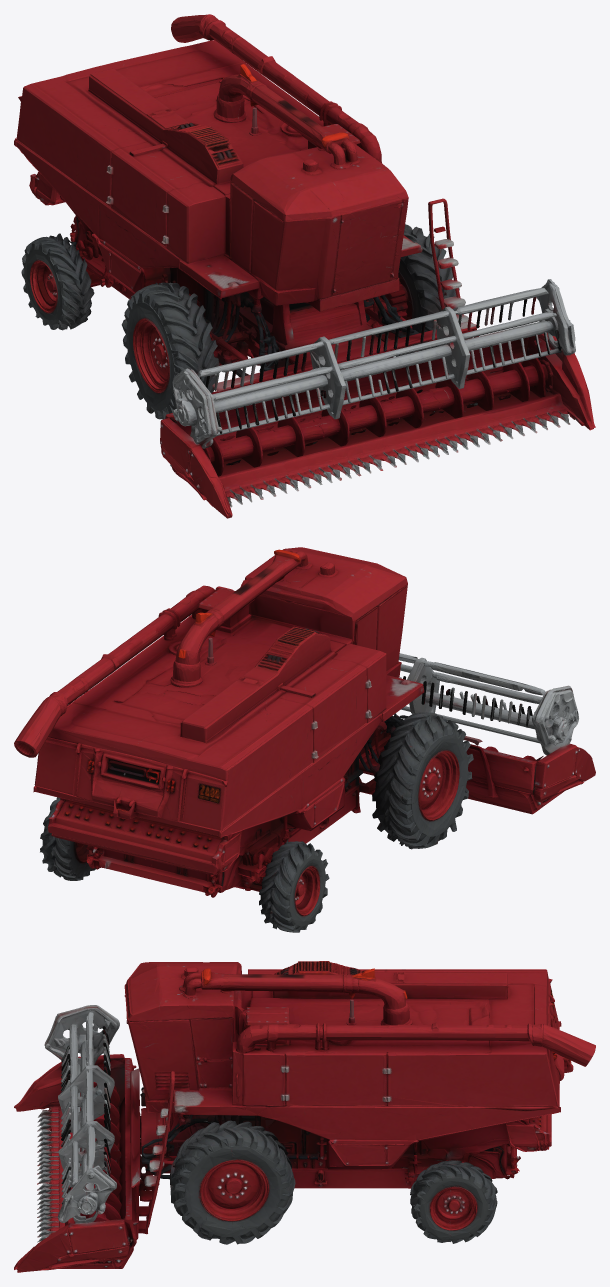
3 renders of one model, top to bottom at view 1: azimuth 30°, elevation 25°; view 2: azimuth 150°, elevation 25°; view 3: azimuth 270°, elevation 25°, orthographic. The views are drawn at different scales.
Parts seen in each view (by area): view 1: world; view 2: world; view 3: world.
Boxes of the visible parts, left/top/right/bottom form: world: left=14, top=14, right=595, bottom=518; world: left=14, top=547, right=595, bottom=932; world: left=14, top=961, right=595, bottom=1272.
Bounding box in the file's own units: 0.699 × 0.4473 × 0.9998.
1 material, 1 textured.
